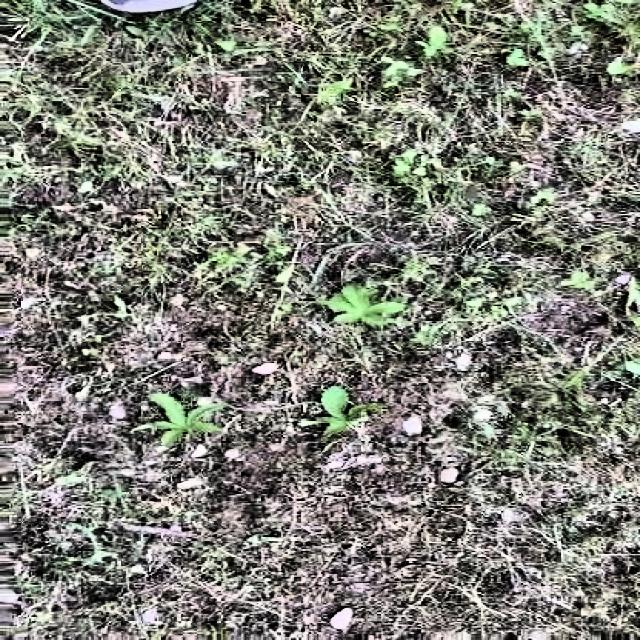Weeds: (135, 390, 227, 447), (326, 287, 405, 336), (307, 389, 379, 442)
